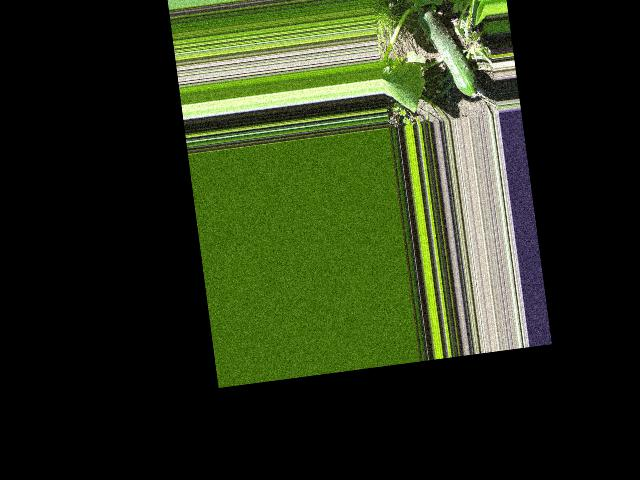cucumber: (416, 4, 479, 103)
